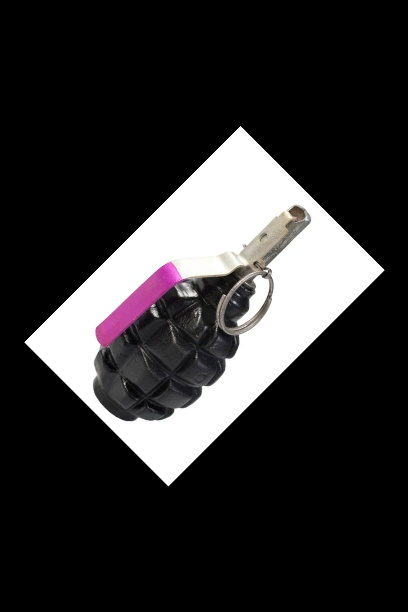e1: (91, 201, 312, 427)
